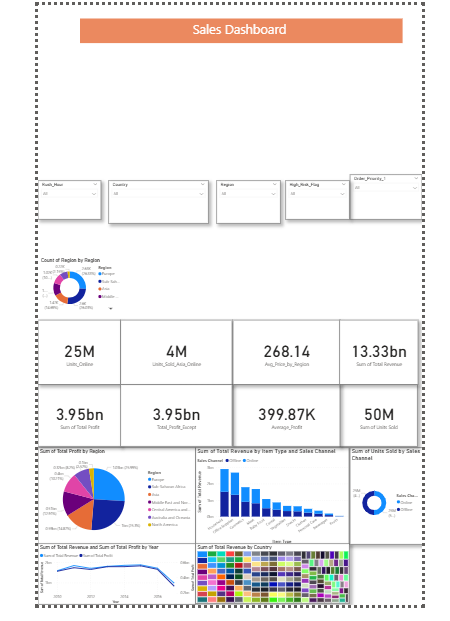

The page's visual inventory and layout, read from the dashboard file:
{"tool":"powerbi","page":{"name":"Page 1","canvas":[1280,2000],"ordinal":0},"visuals":[{"type":"pieChart","fields":{"Category":["Data_visualization.Region"],"Y":["Sum(Data_visualization.Total Profit)"]},"box":[1.7,1473.3,525,323.3],"z":0},{"type":"columnChart","fields":{"Category":["Data_visualization.Item Type"],"Y":["Sum(Data_visualization.Total Revenue)"],"Series":["Data_visualization.Sales Channel"]},"box":[526.7,1473.3,511.7,323.3],"z":1000},{"type":"lineChart","fields":{"Category":["Data_visualization.Order Date.Variation.Date Hierarchy.Year","Data_visualization.Order Date.Variation.Date Hierarchy.Quarter","Data_visualization.Order Date.Variation.Date Hierarchy.Month","Data_visualization.Order Date.Variation.Date Hierarchy.Day"],"Y":["Sum(Data_visualization.Total Revenue)"],"Y2":["Sum(Data_visualization.Total Profit)"]},"box":[0,1796.7,525,203.3],"z":2000},{"type":"treemap","fields":{"Group":["Data_visualization.Country"],"Values":["Sum(Data_visualization.Total Revenue)"]},"box":[525,1796.7,513.3,200],"z":3000},{"type":"donutChart","fields":{"Category":["Data_visualization.Sales Channel"],"Y":["Sum(Data_visualization.Units Sold)"]},"box":[1038.3,1473.3,241.7,323.3],"z":4000},{"type":"card","fields":{"Values":["Sum(Data_visualization.Total Profit)"]},"box":[0,1266.7,276.7,206.7],"z":5000},{"type":"card","fields":{"Values":["Sum(Data_visualization.Units Sold)"]},"box":[1005,1266.7,260,206.7],"z":6000},{"type":"card","fields":{"Values":["Data_visualization.Units_Online"]},"box":[1.7,1051.7,275,215],"z":7000},{"type":"card","fields":{"Values":["Data_visualization.Average_Profit"]},"box":[648.3,1266.7,356.7,206.7],"z":8000},{"type":"card","fields":{"Values":["Data_visualization.Units_Sold_Asia_Online"]},"box":[276.7,1051.7,371.7,215],"z":9000},{"type":"slicer","fields":{"Values":["Data_visualization.Rush_Hour"]},"box":[0,586.7,210,130],"z":10000},{"type":"slicer","fields":{"Values":["Data_visualization.Order_Priority_1"]},"box":[1040,566.7,240,150],"z":11000},{"type":"slicer","fields":{"Values":["Data_visualization.Risk_Associated_with_order"]},"box":[826.7,586.7,213.3,130],"z":12000},{"type":"slicer","fields":{"Values":["Data_visualization.Country"]},"box":[236.7,583.3,333.3,143.3],"z":13000},{"type":"card","fields":{"Values":["Data_visualization.Total_Profit_Except"]},"box":[276.7,1266.7,371.7,206.7],"z":14000},{"type":"slicer","fields":{"Values":["Data_visualization.Region"]},"box":[593.3,583.3,213.3,143.3],"z":15000},{"type":"card","fields":{"Values":["Data_visualization.Avg_Price_by_Region"]},"box":[648.3,1051.7,356.7,215],"z":16000},{"type":"card","fields":{"Values":["Sum(Data_visualization.Total Revenue)"]},"box":[1005,1051.7,261.7,215],"z":17000},{"type":"textbox","box":[140,45,1075,82],"z":18000},{"type":"donutChart","fields":{"Category":["Data_visualization.Region"],"Y":["CountNonNull(Data_visualization.Region)"]},"box":[2.5,837.5,282.5,185],"z":19000}]}

Visuals, with their boxes on the page's 1280x2000 design canvas (x1, y1, x2, y2). These are canvas units, not pixel positions in the 450x621 screenshot, which may show the page scaled, cropped or inside an application window:
pieChart - Data_visualization.Region x Sum(Data_visualization.Total Profit): box=[2, 1473, 527, 1797]
columnChart - Data_visualization.Item Type x Sum(Data_visualization.Total Revenue): box=[527, 1473, 1038, 1797]
lineChart - Data_visualization.Order Date.Variation.Date Hierarchy.Year x Data_visualization.Order Date.Variation.Date Hierarchy.Quarter: box=[0, 1797, 525, 2000]
treemap - Data_visualization.Country x Sum(Data_visualization.Total Revenue): box=[525, 1797, 1038, 1997]
donutChart - Data_visualization.Sales Channel x Sum(Data_visualization.Units Sold): box=[1038, 1473, 1280, 1797]
card - Sum(Data_visualization.Total Profit): box=[0, 1267, 277, 1473]
card - Sum(Data_visualization.Units Sold): box=[1005, 1267, 1265, 1473]
card - Data_visualization.Units_Online: box=[2, 1052, 277, 1267]
card - Data_visualization.Average_Profit: box=[648, 1267, 1005, 1473]
card - Data_visualization.Units_Sold_Asia_Online: box=[277, 1052, 648, 1267]
slicer - Data_visualization.Rush_Hour: box=[0, 587, 210, 717]
slicer - Data_visualization.Order_Priority_1: box=[1040, 567, 1280, 717]
slicer - Data_visualization.Risk_Associated_with_order: box=[827, 587, 1040, 717]
slicer - Data_visualization.Country: box=[237, 583, 570, 727]
card - Data_visualization.Total_Profit_Except: box=[277, 1267, 648, 1473]
slicer - Data_visualization.Region: box=[593, 583, 807, 727]
card - Data_visualization.Avg_Price_by_Region: box=[648, 1052, 1005, 1267]
card - Sum(Data_visualization.Total Revenue): box=[1005, 1052, 1267, 1267]
textbox: box=[140, 45, 1215, 127]
donutChart - Data_visualization.Region x CountNonNull(Data_visualization.Region): box=[2, 838, 285, 1022]
